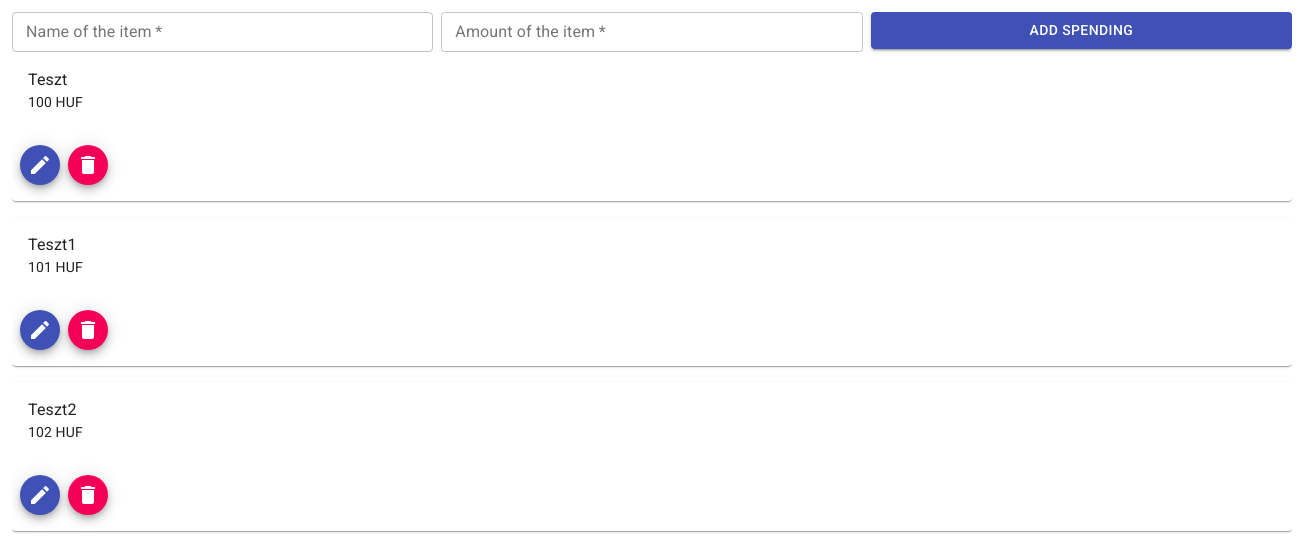
Interaction test › update a spending
Click the button named "update" below "100".
click(40, 165)  # box x1=20 y1=145 x2=60 y2=185
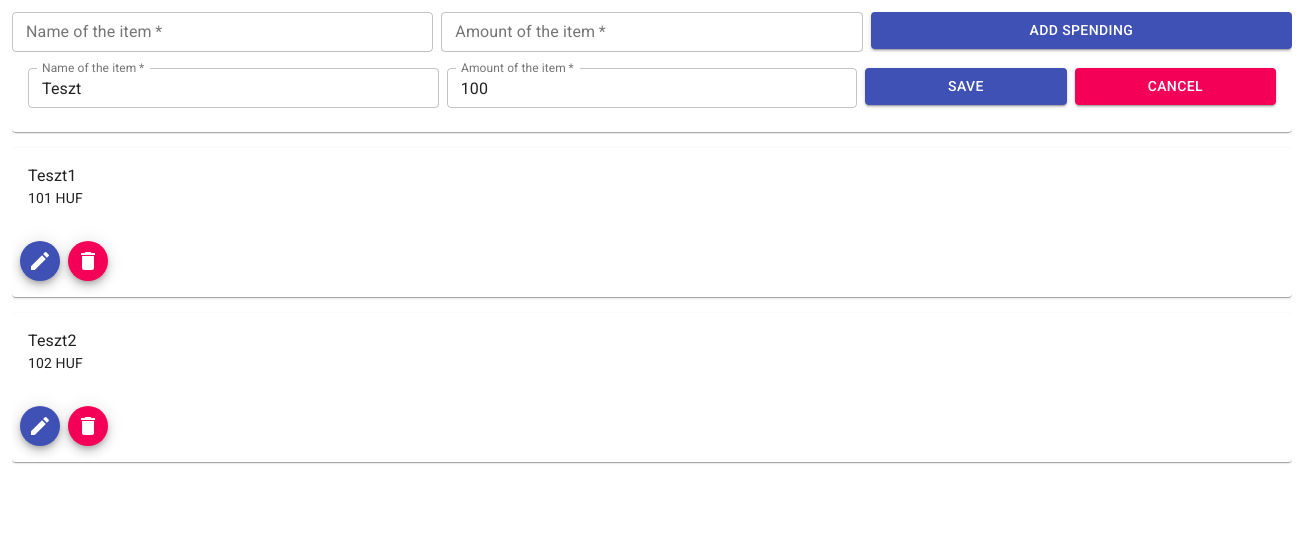
Now the text "Cancel" is shown, box x1=1148 y1=78 x2=1203 y2=94
Replace the text in the 2nd field with test id "name" with "Updated" at (233, 88), box x1=28 y1=68 x2=439 y2=108
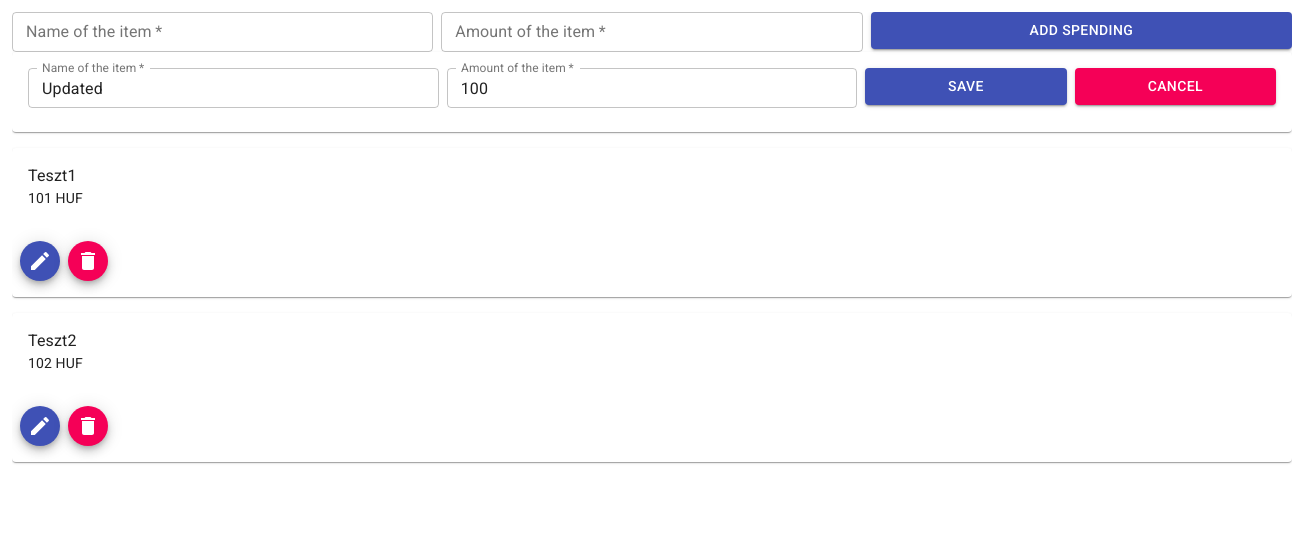
Replace the text in the 2nd number field with test id "amount" with "500" at (652, 88), box x1=447 y1=68 x2=857 y2=108
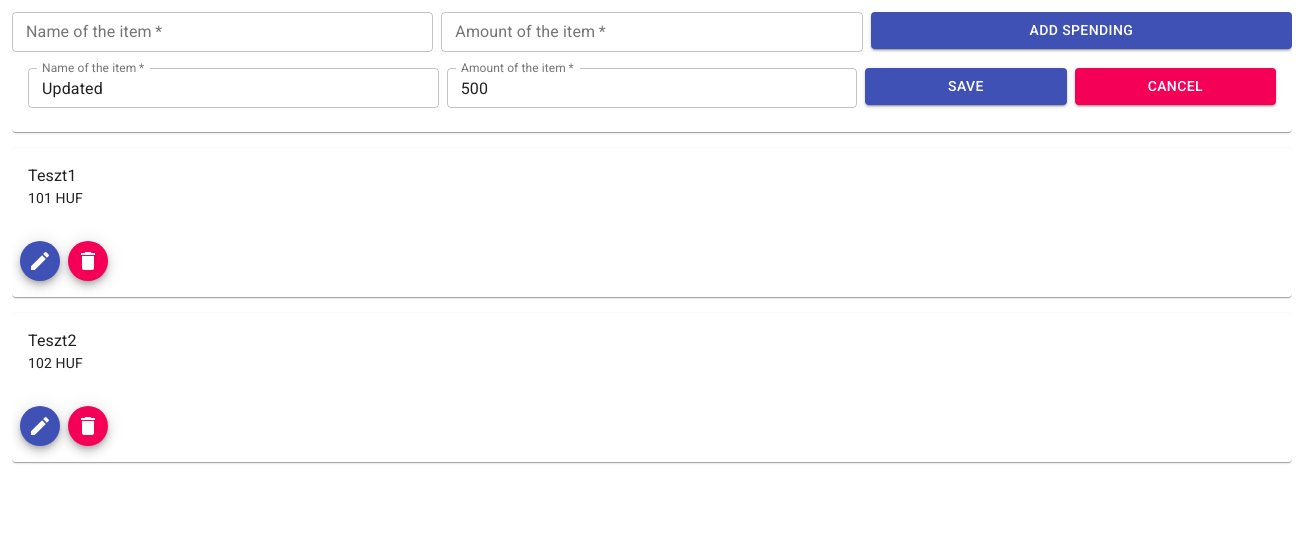
Click the button "Save".
click(966, 86)  # box x1=865 y1=68 x2=1067 y2=104
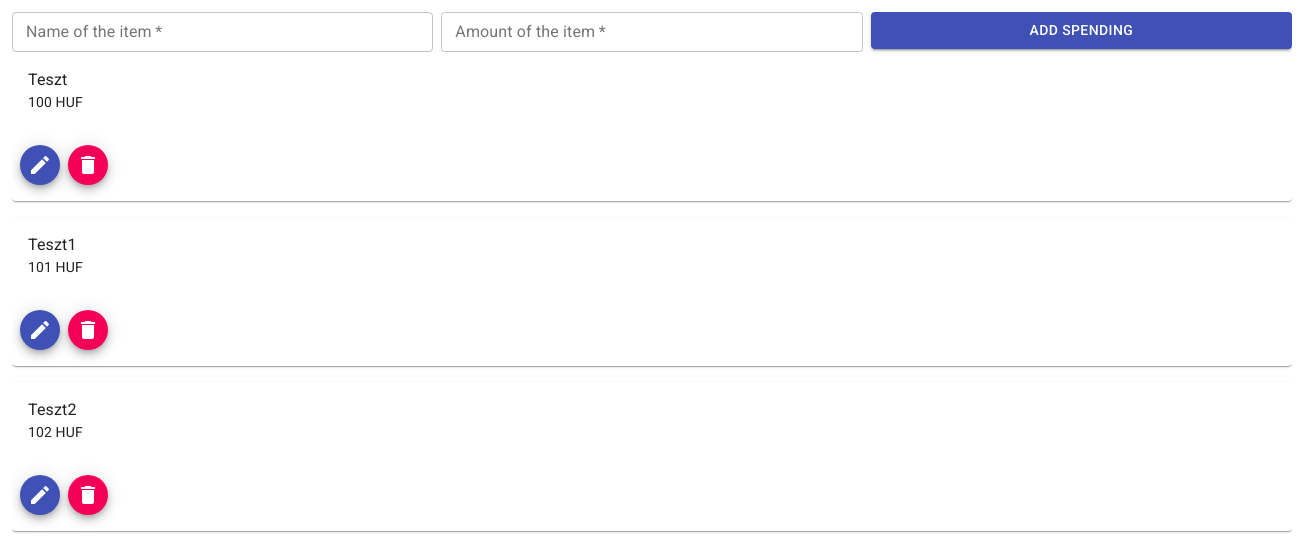
Now the button "Cancel" is gone
